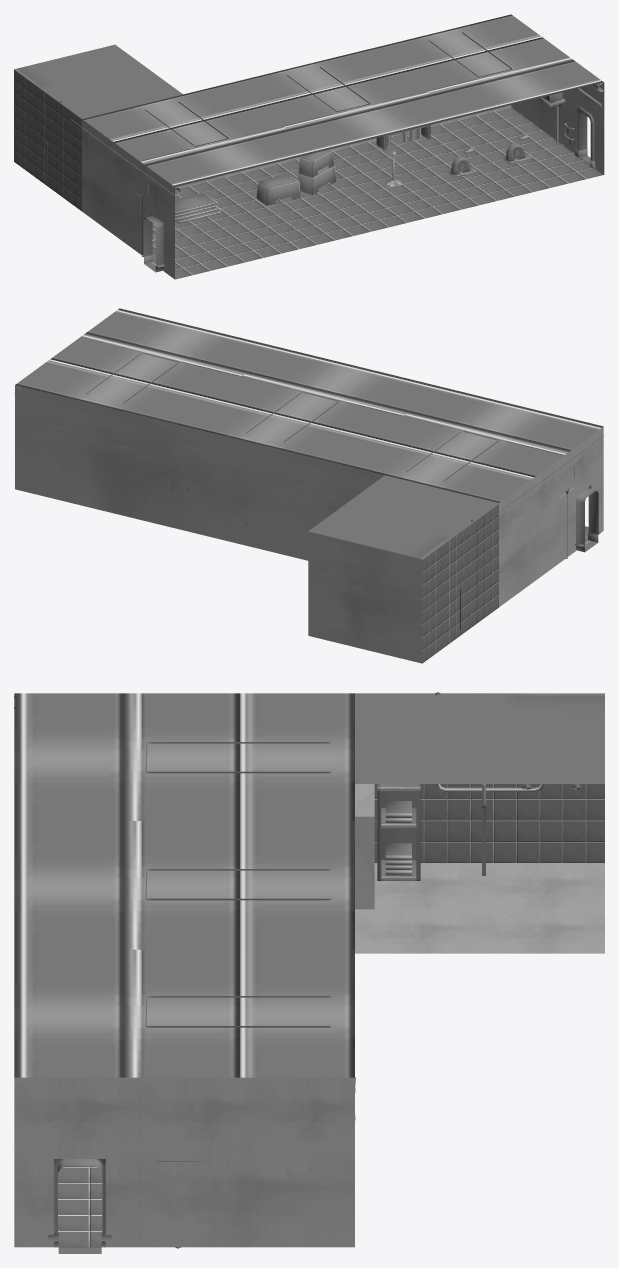
File: MSH_endurance_room_L1_R3_optimized.fbx
3 renders of one model, top to bottom at view 1: azimuth 30°, elevation 25°; view 2: azimuth 150°, elevation 25°; view 3: azimuth 270°, elevation 25°, orthographic. The views are drawn at different scales.
Parts seen in each view (by area): view 1: lightmap1, lightmap0, lightmap-1; view 2: lightmap1, lightmap-1, lightmap0; view 3: lightmap1, lightmap0.
Part boxes in pixels (left/top/right/bottom): lightmap1: left=14, top=14, right=604, bottom=279; lightmap0: left=46, top=32, right=574, bottom=256; lightmap-1: left=143, top=111, right=590, bottom=272; lightmap1: left=14, top=308, right=604, bottom=663; lightmap-1: left=576, top=488, right=598, bottom=552; lightmap0: left=85, top=352, right=574, bottom=629; lightmap1: left=14, top=692, right=604, bottom=1248; lightmap0: left=145, top=742, right=581, bottom=1161.
Size of the model in its own units: 30.91 by 6.28 by 19.43.
Materials: 4 (4 with a texture image).
